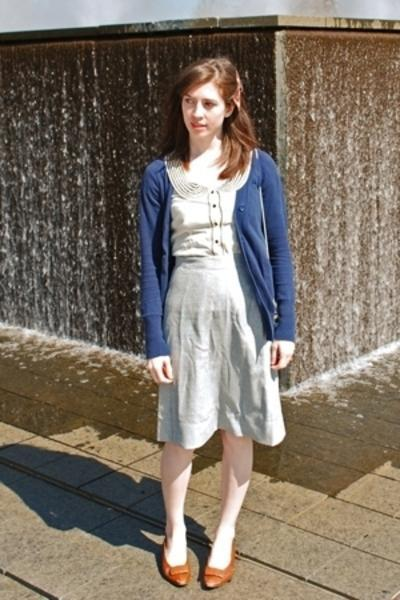dress: (151, 156, 288, 459)
jacket: (133, 139, 314, 358)
shoe: (153, 543, 185, 587)
